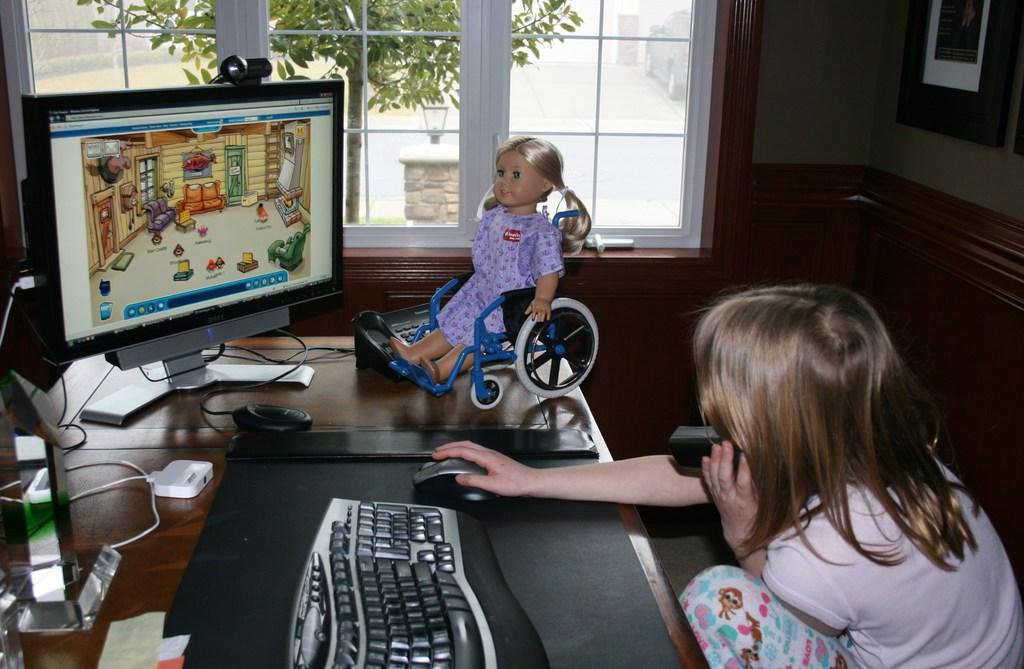Computer-monitor: (18, 75, 346, 395)
